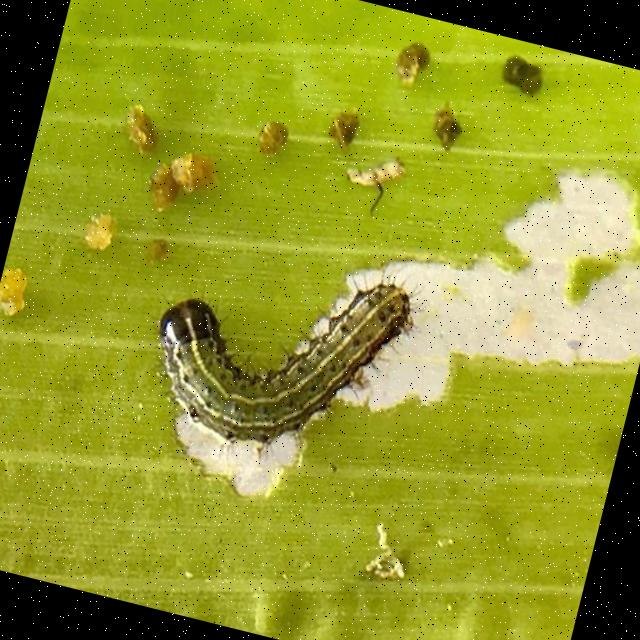worm: (133, 223, 428, 487)
